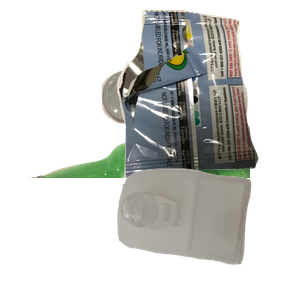glass: (23, 120, 263, 300)
metal: (99, 68, 244, 184)
plastic: (115, 166, 300, 300)
trash: (114, 10, 300, 180)
